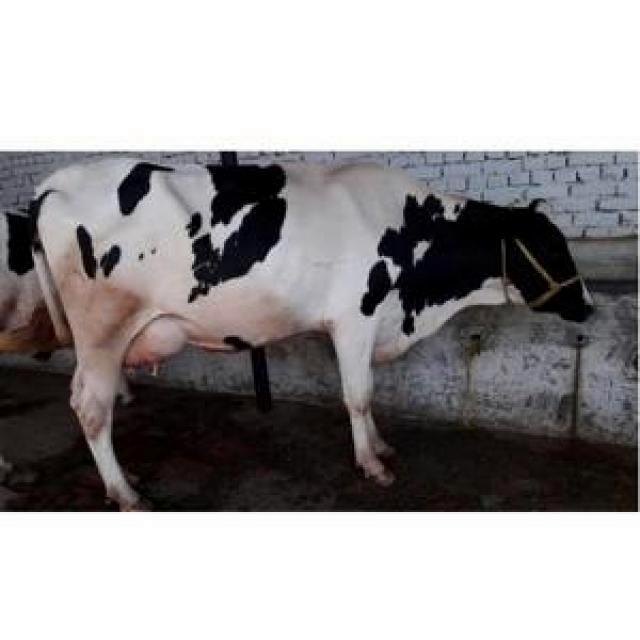COW: (31, 158, 592, 509)
